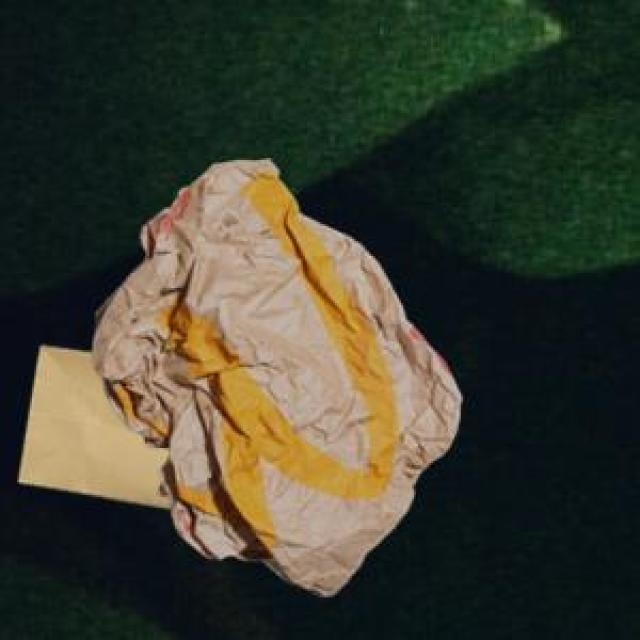paper: (88, 156, 457, 591), (15, 341, 166, 504)
